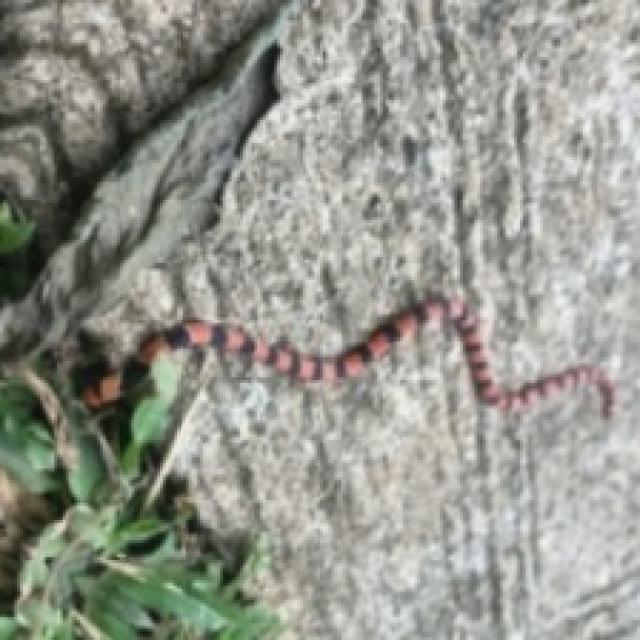barredcoral snake: (140, 297, 614, 414)
